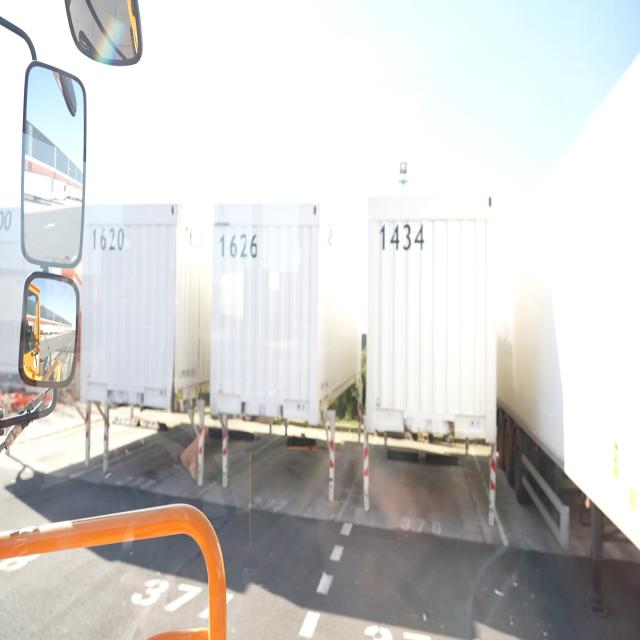Code: (376, 218, 426, 258), (218, 228, 262, 268), (88, 221, 127, 257)
